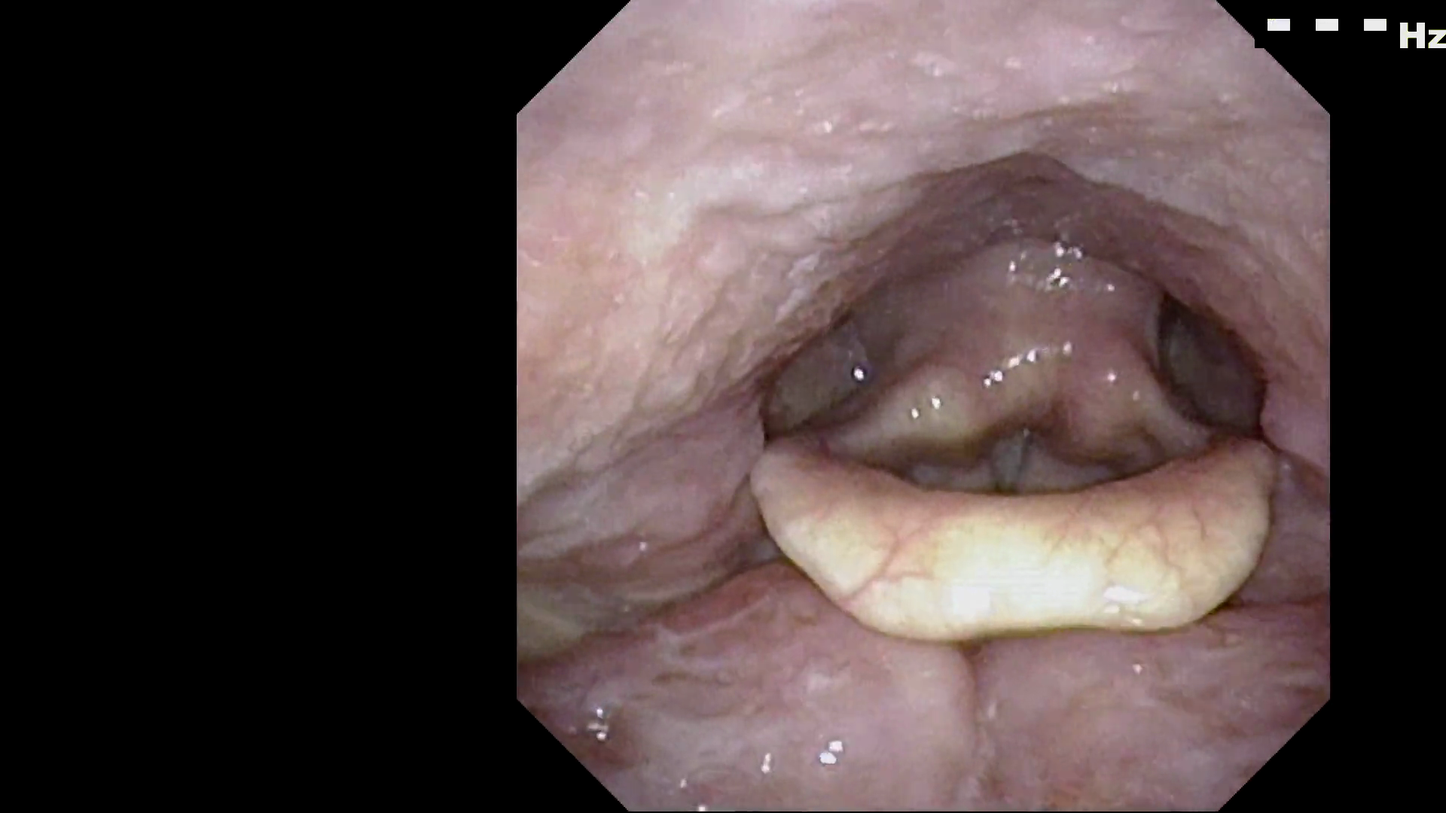epiglottis: (719, 424, 1285, 658)
trachea: (944, 400, 1073, 542)
